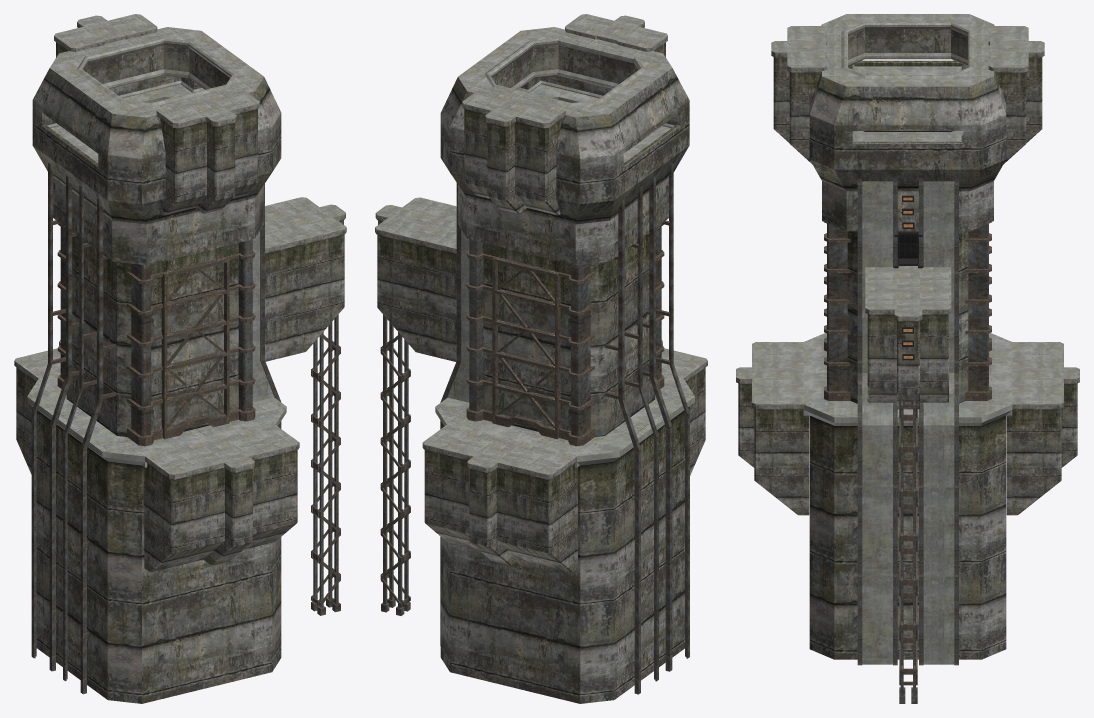
File: sniper_with_notches.fbx
The picture shows the model from 3 angles, left to right: view 1: azimuth 30°, elevation 25°; view 2: azimuth 150°, elevation 25°; view 3: azimuth 270°, elevation 25°; orthographic projection.
Visible parts, largest first — view 1: Object; view 2: Object; view 3: Object.
Boxes of the visible parts, <box> form: Object: <box>14,14,346,703</box>; Object: <box>375,14,707,703</box>; Object: <box>736,14,1079,703</box>.
Size of the model in its own units: 5225 by 10262 by 5600.
